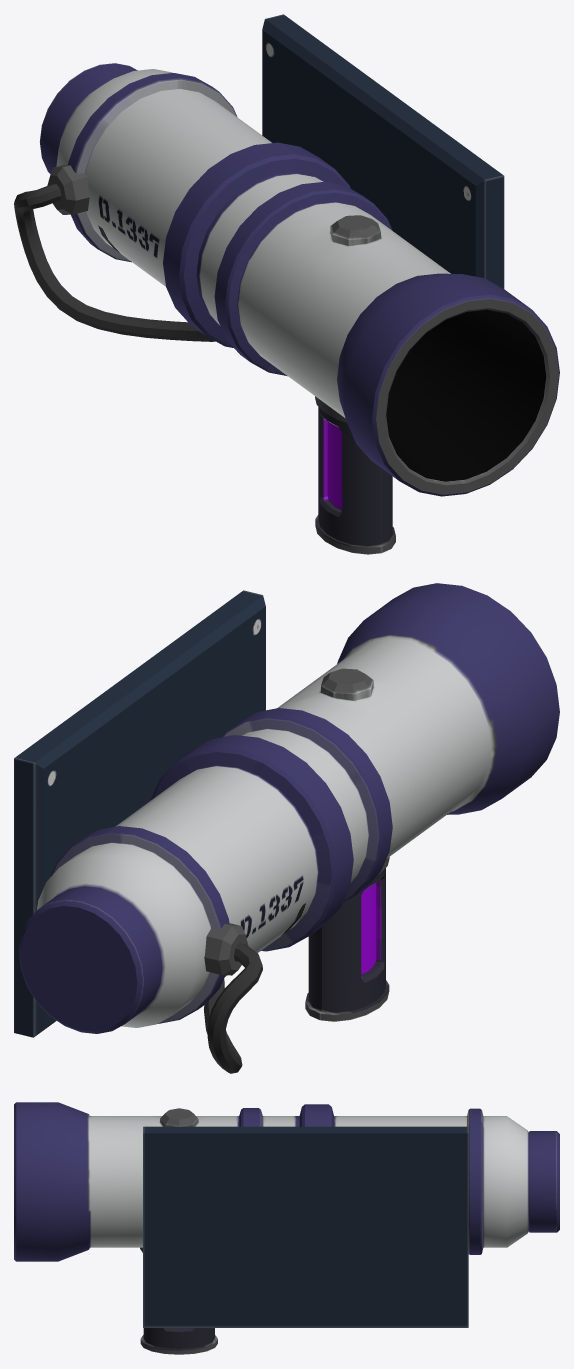
Rendered from SM_ZombieLauncher.fbx.
3 renders of one model, top to bottom at view 1: azimuth 30°, elevation 25°; view 2: azimuth 150°, elevation 25°; view 3: azimuth 270°, elevation 25°, orthographic. The views are drawn at different scales.
Visible parts, largest first — view 1: SM_ZombieLauncher; view 2: SM_ZombieLauncher; view 3: SM_ZombieLauncher.
Boxes of the visible parts, <box> form: SM_ZombieLauncher: <box>14,14,559,554</box>; SM_ZombieLauncher: <box>14,583,559,1073</box>; SM_ZombieLauncher: <box>14,1102,559,1354</box>.
Bounding box in the file's own units: 7.4 × 18.97 × 9.78.
Materials: 1 (1 with a texture image).
